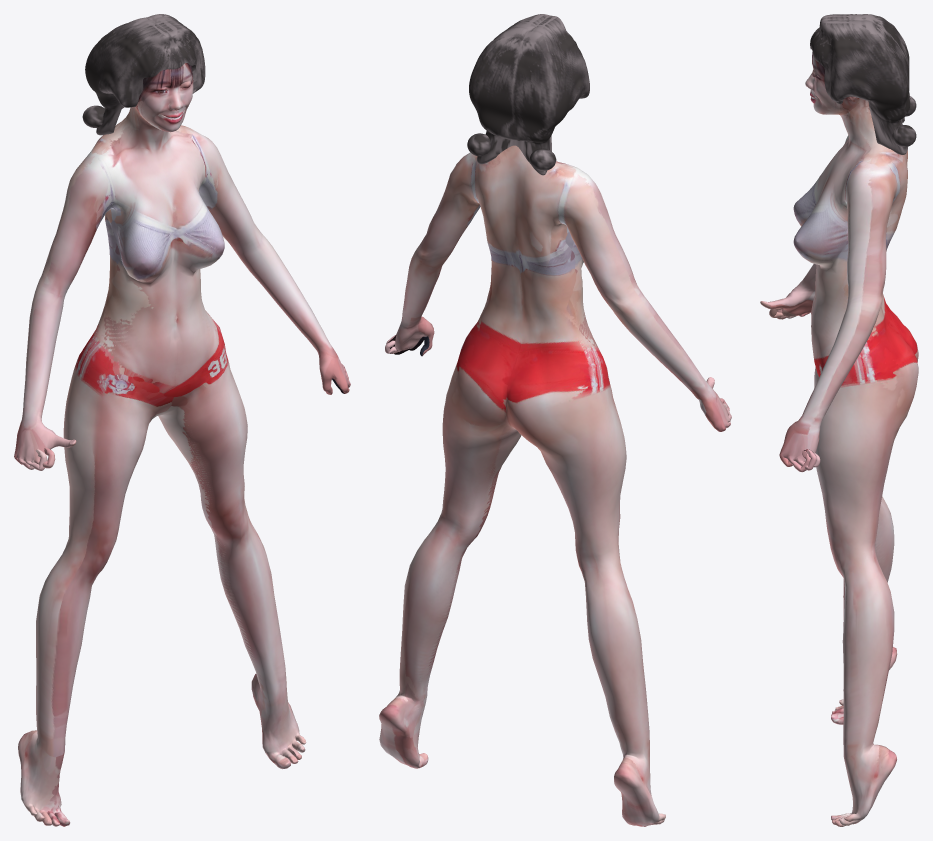
Rendered from gyeonjahee.glb.
The picture shows the model from 3 angles, left to right: view 1: azimuth 30°, elevation 25°; view 2: azimuth 150°, elevation 25°; view 3: azimuth 270°, elevation 25°; orthographic projection. The views are drawn at different scales.
Parts seen in each view (by area): view 1: gyeonjahee; view 2: gyeonjahee; view 3: gyeonjahee.
Boxes of the visible parts, x1,y1,x2,y2 form: gyeonjahee: (14, 14, 350, 826); gyeonjahee: (379, 14, 731, 826); gyeonjahee: (760, 14, 918, 826).
Bounding box in the file's own units: 0.7404 × 1.64 × 0.3129.
3 materials, 1 textured.
